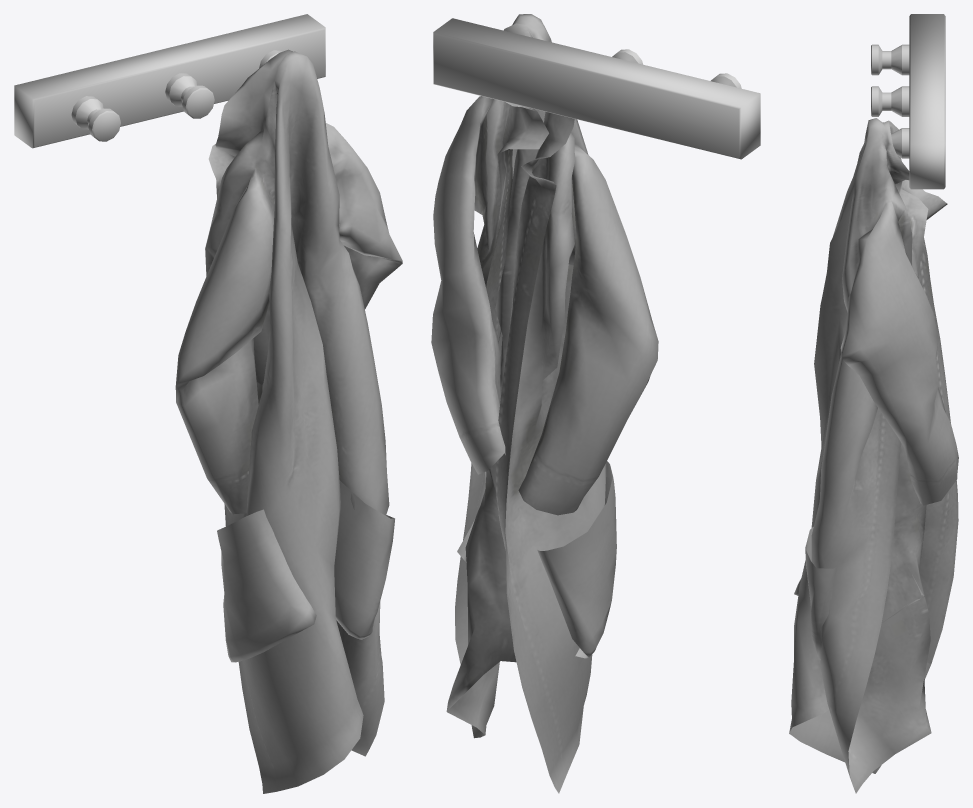
File: lapcoat.fbx
3 renders of one model, left to right at view 1: azimuth 30°, elevation 25°; view 2: azimuth 150°, elevation 25°; view 3: azimuth 270°, elevation 25°, orthographic. The views are drawn at different scales.
Visible parts, largest first — view 1: lab-coat, LabCoatRack; view 2: lab-coat, LabCoatRack; view 3: lab-coat, LabCoatRack.
Part boxes in pixels (left/top/right/bottom): lab-coat: left=175, top=49, right=402, bottom=793; LabCoatRack: left=14, top=14, right=325, bottom=148; lab-coat: left=431, top=14, right=658, bottom=793; LabCoatRack: left=433, top=18, right=760, bottom=159; lab-coat: left=789, top=118, right=958, bottom=793; LabCoatRack: left=871, top=14, right=945, bottom=189.
Size of the model in its own units: 55.17 by 116 by 26.76.
2 materials, 1 textured.
